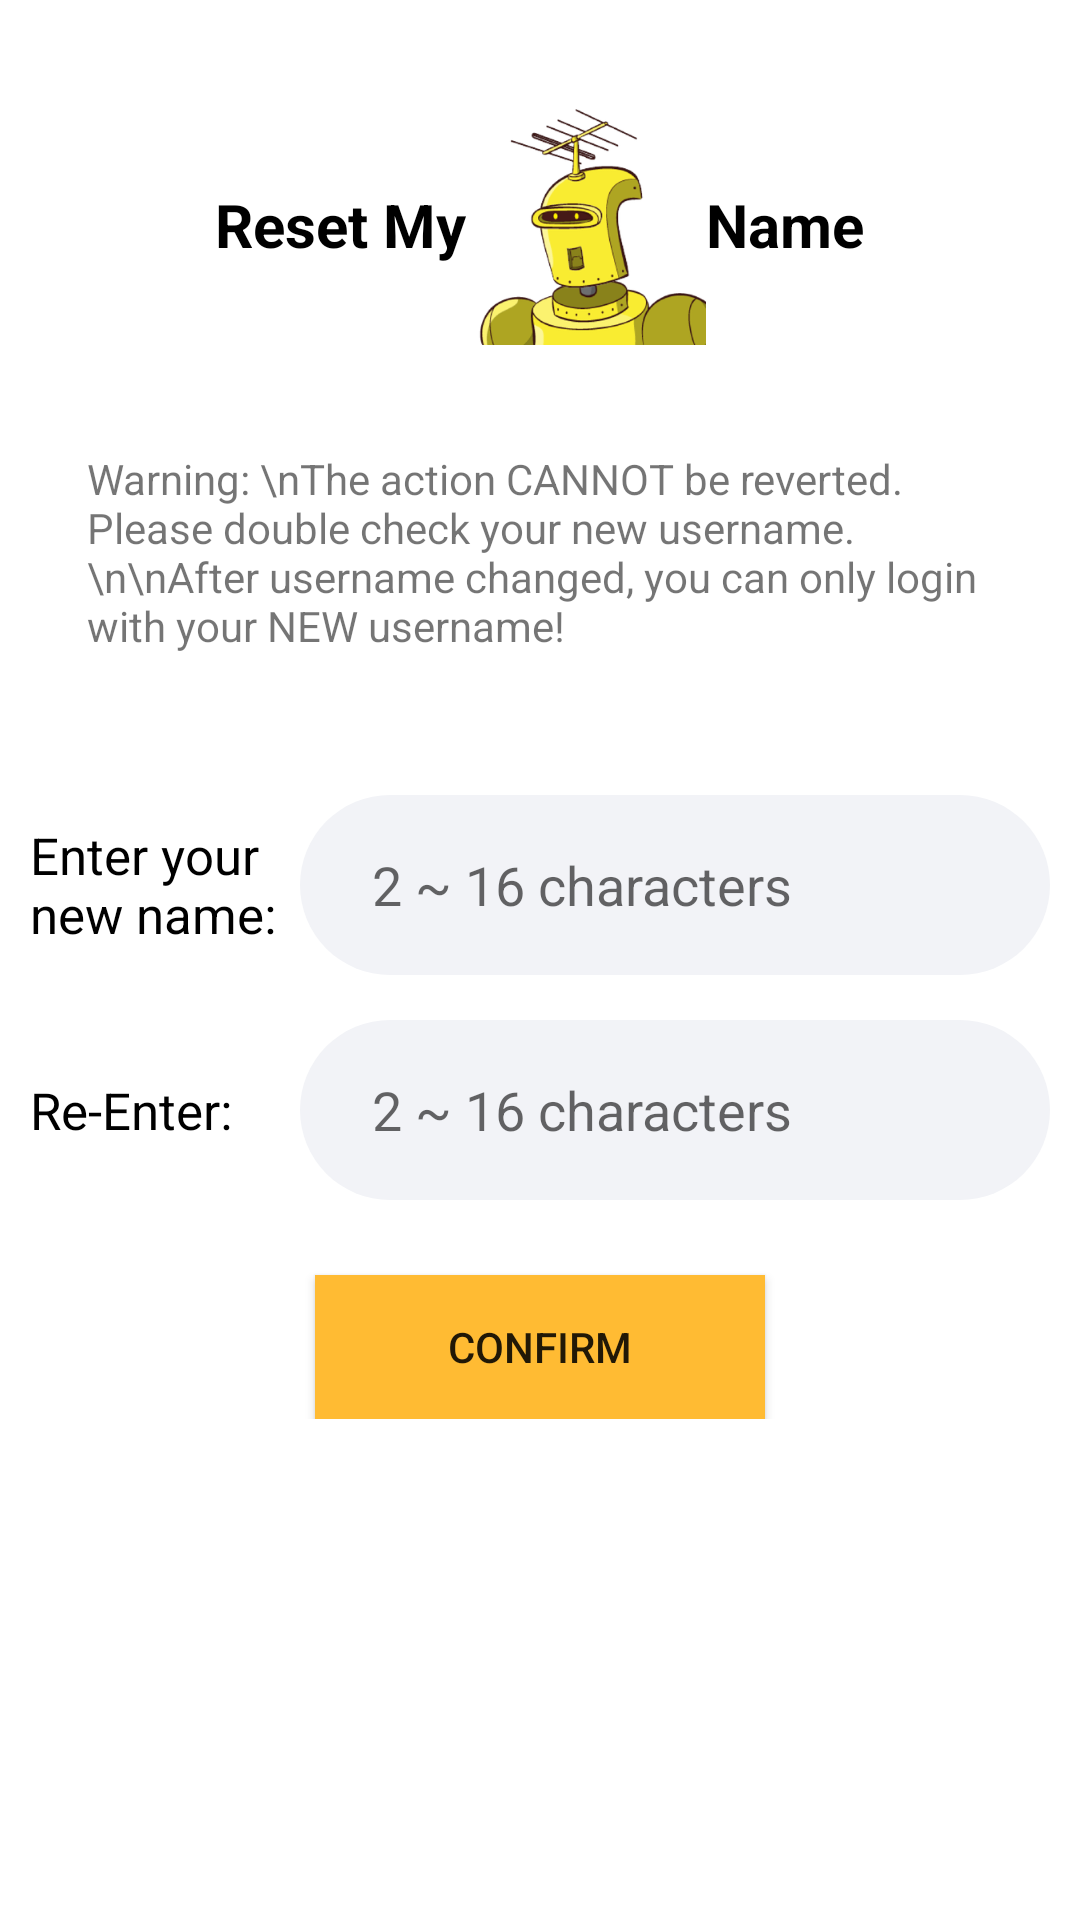

Screen size 1080 x 1920. Icon name, then its center in pixels as (x,y):
robot: (593,227)
